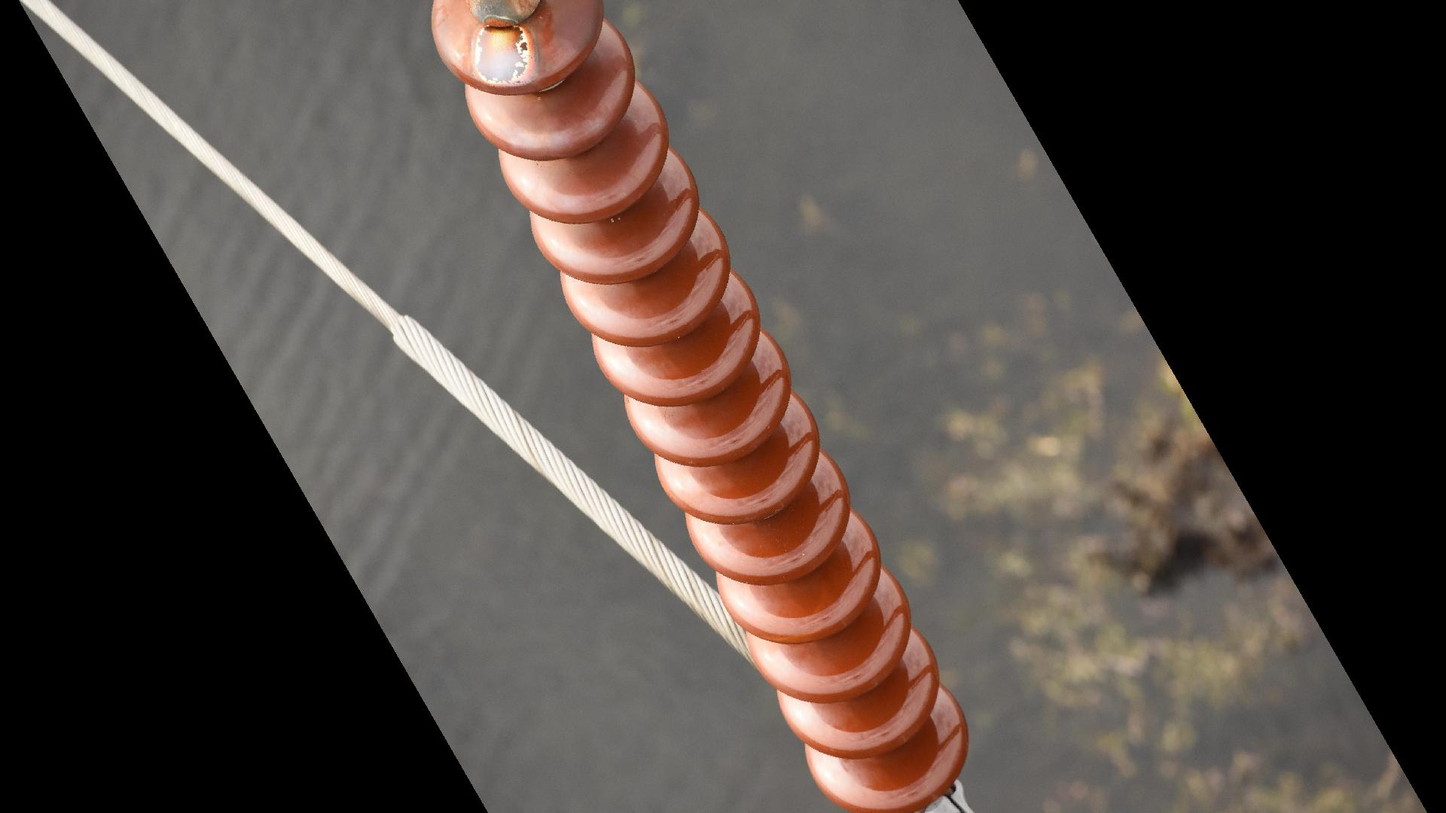insulator: (422, 1, 977, 813)
insulator_flashover: (469, 20, 534, 90)
